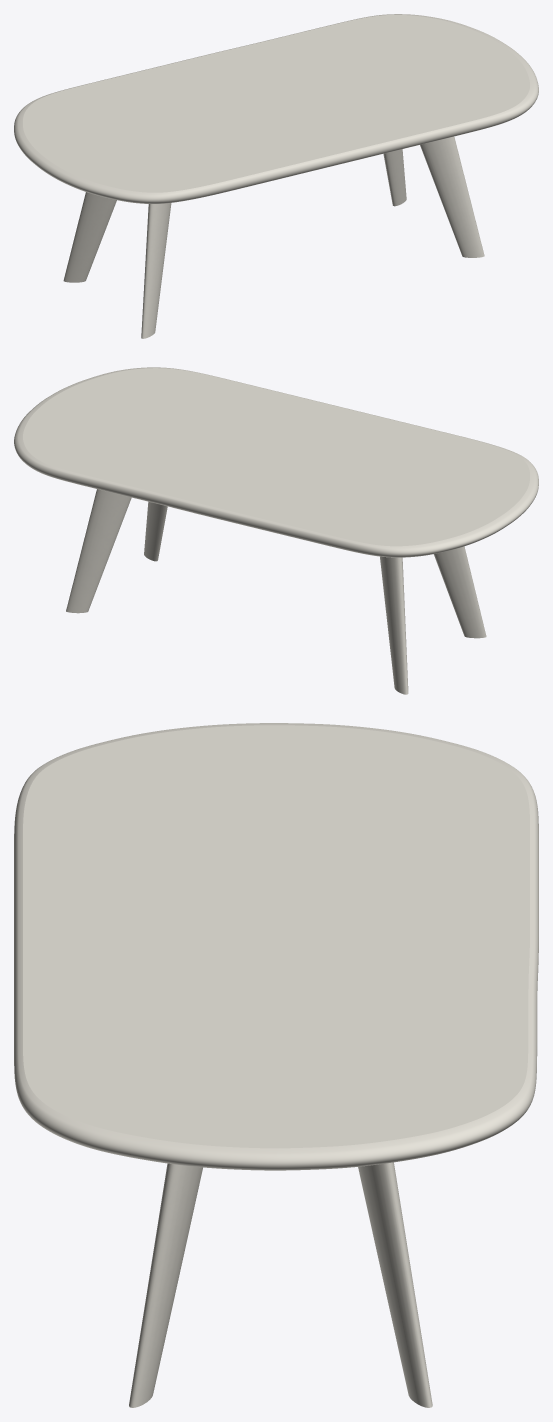
Rendered from pale_oval_round_ferdinantwalnut.glb.
3 renders of one model, top to bottom at view 1: azimuth 30°, elevation 25°; view 2: azimuth 150°, elevation 25°; view 3: azimuth 270°, elevation 25°, orthographic. The views are drawn at different scales.
Parts seen in each view (by area): view 1: round_oval, ferdinandwalnut; view 2: round_oval, ferdinandwalnut; view 3: round_oval, ferdinandwalnut.
Boxes of the visible parts, bbox=[...] form: round_oval: bbox=[14, 14, 538, 203]; ferdinandwalnut: bbox=[63, 136, 484, 338]; round_oval: bbox=[14, 367, 538, 557]; ferdinandwalnut: bbox=[66, 489, 486, 694]; round_oval: bbox=[14, 723, 538, 1170]; ferdinandwalnut: bbox=[129, 1162, 432, 1407].
Bounding box in the file's own units: 7.5 × 2.51 × 3.8.
Materials: 1 (1 with a texture image).
